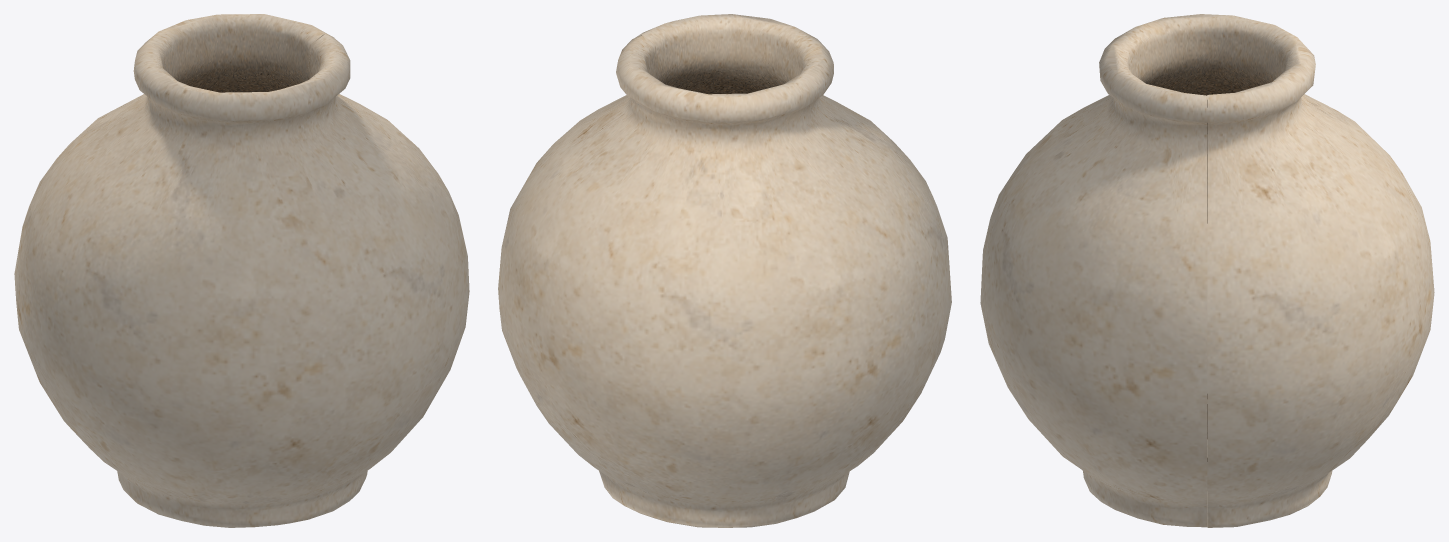
Rendered from boop-vase-large-white-baked.glb.
3 views of the same model, side by side, from view 1: azimuth 30°, elevation 25°; view 2: azimuth 150°, elevation 25°; view 3: azimuth 270°, elevation 25° (orthographic).
Visible parts, largest first — view 1: vase-large-white; view 2: vase-large-white; view 3: vase-large-white.
Part boxes in pixels (box(x1,y1,x2,y2)): vase-large-white: box(14, 14, 469, 527); vase-large-white: box(498, 14, 951, 527); vase-large-white: box(980, 14, 1434, 527).
Bounding box in the file's own units: 0.0322 × 0.033 × 0.0322.
Materials: 1 (1 with a texture image).
